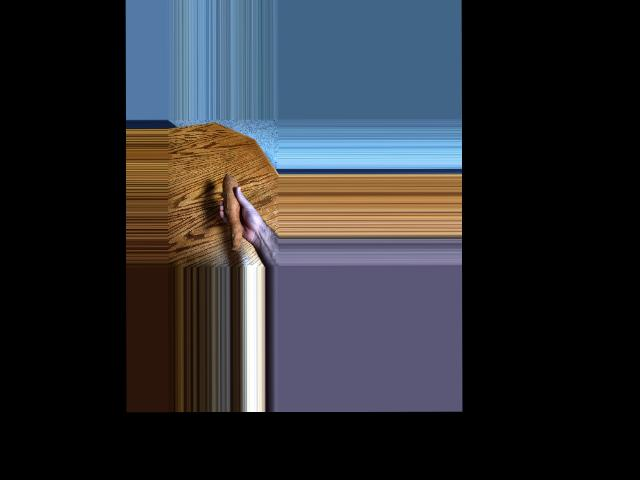sweet_potato: (220, 172, 244, 254)
